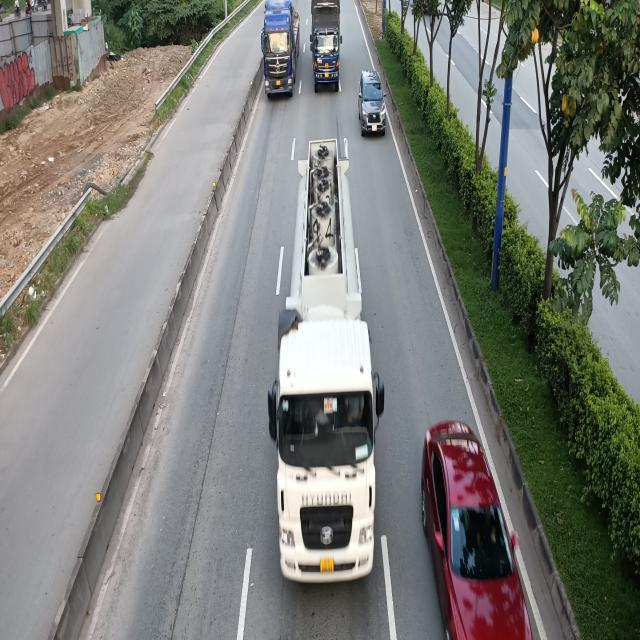car: (419, 420, 534, 638), (358, 70, 386, 134)
container: (269, 139, 382, 585), (261, 0, 300, 98)
truck: (311, 0, 344, 89)
